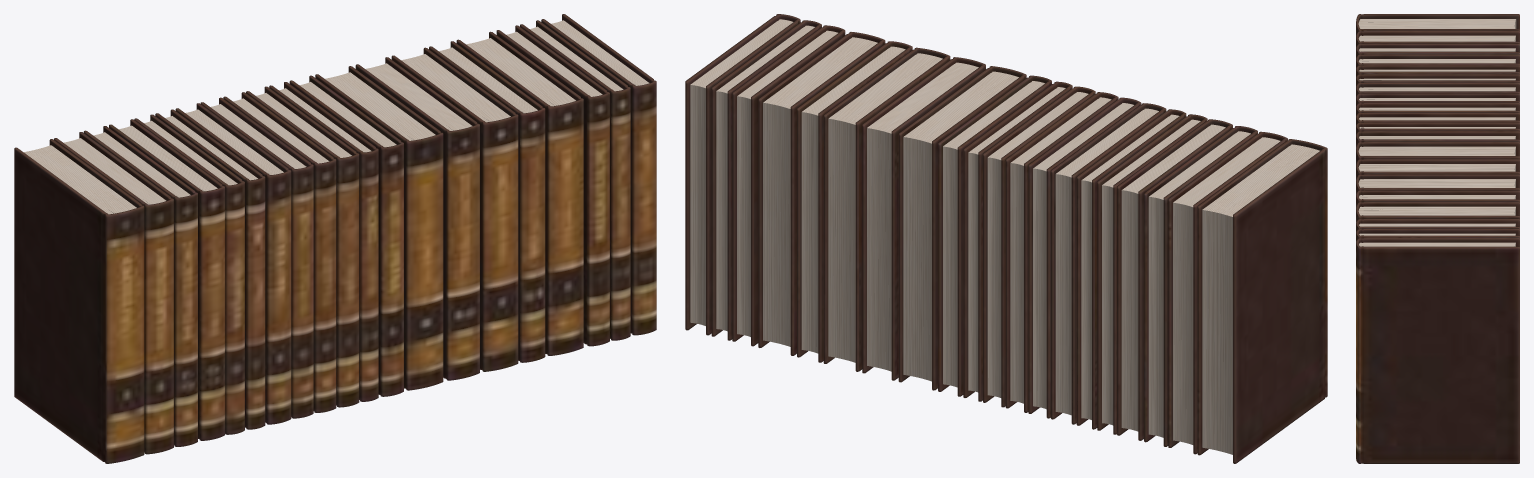
3 views of the same model, side by side, from view 1: azimuth 30°, elevation 25°; view 2: azimuth 150°, elevation 25°; view 3: azimuth 270°, elevation 25° (orthographic). The views are drawn at different scales.
Parts seen in each view (by area): view 1: book_encyclopedia_set_01_book01, book_encyclopedia_set_01_book13, book_encyclopedia_set_01_book15, book_encyclopedia_set_01_book17, book_encyclopedia_set_01_book14, book_encyclopedia_set_01_book02, book_encyclopedia_set_01_book16, book_encyclopedia_set_01_book04, book_encyclopedia_set_01_book18, book_encyclopedia_set_01_book20, book_encyclopedia_set_01_book07, book_encyclopedia_set_01_book12 (+8 smaller); view 2: book_encyclopedia_set_01_book01, book_encyclopedia_set_01_book13, book_encyclopedia_set_01_book15, book_encyclopedia_set_01_book17, book_encyclopedia_set_01_book14, book_encyclopedia_set_01_book02, book_encyclopedia_set_01_book04, book_encyclopedia_set_01_book16, book_encyclopedia_set_01_book18, book_encyclopedia_set_01_book20, book_encyclopedia_set_01_book07, book_encyclopedia_set_01_book12 (+8 smaller); view 3: book_encyclopedia_set_01_book20, book_encyclopedia_set_01_book13, book_encyclopedia_set_01_book01, book_encyclopedia_set_01_book17, book_encyclopedia_set_01_book15, book_encyclopedia_set_01_book14, book_encyclopedia_set_01_book02, book_encyclopedia_set_01_book16, book_encyclopedia_set_01_book03, book_encyclopedia_set_01_book12, book_encyclopedia_set_01_book07, book_encyclopedia_set_01_book04 (+8 smaller).
Boxes of the visible parts, x1,y1,x2,y2 form: book_encyclopedia_set_01_book01: [14, 139, 144, 463]; book_encyclopedia_set_01_book13: [315, 66, 443, 390]; book_encyclopedia_set_01_book15: [391, 47, 518, 371]; book_encyclopedia_set_01_book17: [456, 31, 583, 355]; book_encyclopedia_set_01_book14: [355, 57, 479, 380]; book_encyclopedia_set_01_book02: [54, 132, 173, 454]; book_encyclopedia_set_01_book16: [429, 41, 545, 362]; book_encyclopedia_set_01_book04: [109, 119, 224, 440]; book_encyclopedia_set_01_book18: [496, 25, 609, 346]; book_encyclopedia_set_01_book20: [541, 14, 656, 335]; book_encyclopedia_set_01_book07: [175, 103, 291, 424]; book_encyclopedia_set_01_book12: [289, 75, 403, 396]; book_encyclopedia_set_01_book01: [1197, 139, 1327, 463]; book_encyclopedia_set_01_book13: [898, 66, 1026, 390]; book_encyclopedia_set_01_book15: [823, 47, 950, 371]; book_encyclopedia_set_01_book17: [758, 32, 885, 355]; book_encyclopedia_set_01_book14: [862, 57, 985, 380]; book_encyclopedia_set_01_book02: [1168, 131, 1287, 454]; book_encyclopedia_set_01_book04: [1117, 119, 1232, 440]; book_encyclopedia_set_01_book16: [797, 41, 912, 362]; book_encyclopedia_set_01_book18: [732, 25, 845, 346]; book_encyclopedia_set_01_book20: [685, 14, 800, 335]; book_encyclopedia_set_01_book07: [1051, 103, 1166, 424]; book_encyclopedia_set_01_book12: [938, 75, 1051, 396]; book_encyclopedia_set_01_book20: [1356, 238, 1519, 463]; book_encyclopedia_set_01_book13: [1356, 142, 1519, 164]; book_encyclopedia_set_01_book01: [1356, 14, 1519, 35]; book_encyclopedia_set_01_book17: [1356, 202, 1519, 222]; book_encyclopedia_set_01_book15: [1356, 174, 1519, 194]; book_encyclopedia_set_01_book14: [1356, 159, 1519, 180]; book_encyclopedia_set_01_book02: [1356, 30, 1519, 47]; book_encyclopedia_set_01_book16: [1356, 190, 1519, 208]; book_encyclopedia_set_01_book03: [1356, 43, 1519, 58]; book_encyclopedia_set_01_book12: [1356, 131, 1519, 148]; book_encyclopedia_set_01_book07: [1356, 82, 1519, 96]; book_encyclopedia_set_01_book04: [1356, 54, 1519, 68].
Bounding box in the file's own units: 0.5513 × 0.2374 × 0.1631.
2 materials, 2 textured.
